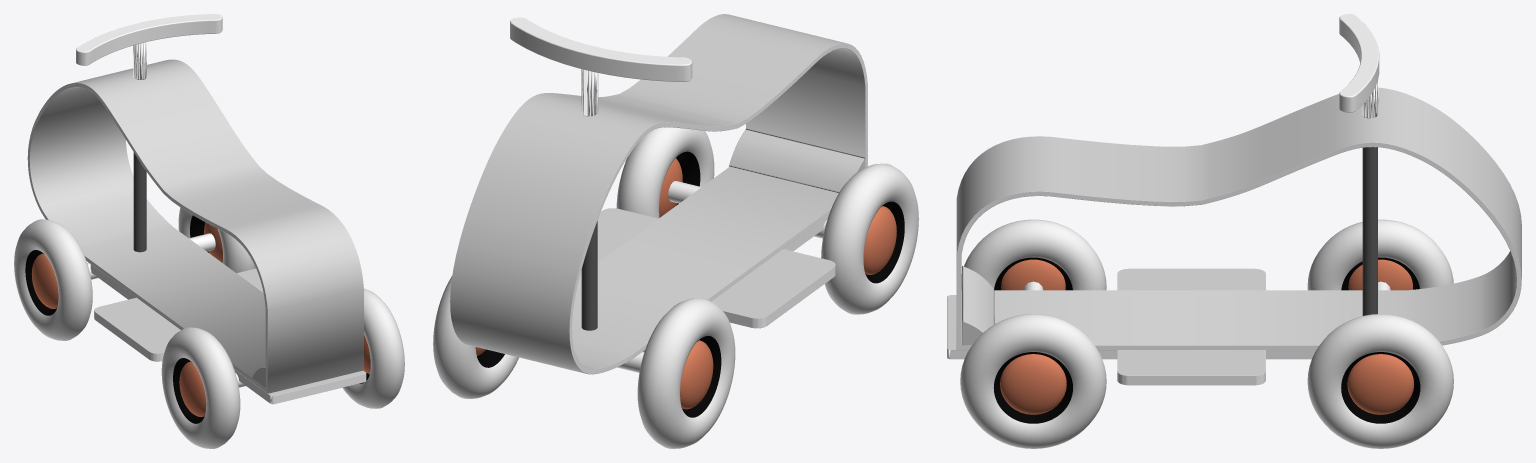
The model's file is wolfgang.glb.
The picture shows the model from 3 angles, left to right: view 1: azimuth 30°, elevation 25°; view 2: azimuth 150°, elevation 25°; view 3: azimuth 270°, elevation 25°; orthographic projection. The views are drawn at different scales.
Parts seen in each view (by area): view 1: wolfgang_sirch_sibis_max_obj; view 2: wolfgang_sirch_sibis_max_obj; view 3: wolfgang_sirch_sibis_max_obj.
Boxes of the visible parts, x1=… form: wolfgang_sirch_sibis_max_obj: x1=14, y1=14, x2=404, y2=448; wolfgang_sirch_sibis_max_obj: x1=433, y1=14, x2=918, y2=448; wolfgang_sirch_sibis_max_obj: x1=947, y1=14, x2=1521, y2=448.
Bounding box in the file's own units: 19.79 × 28.67 × 43.23.
